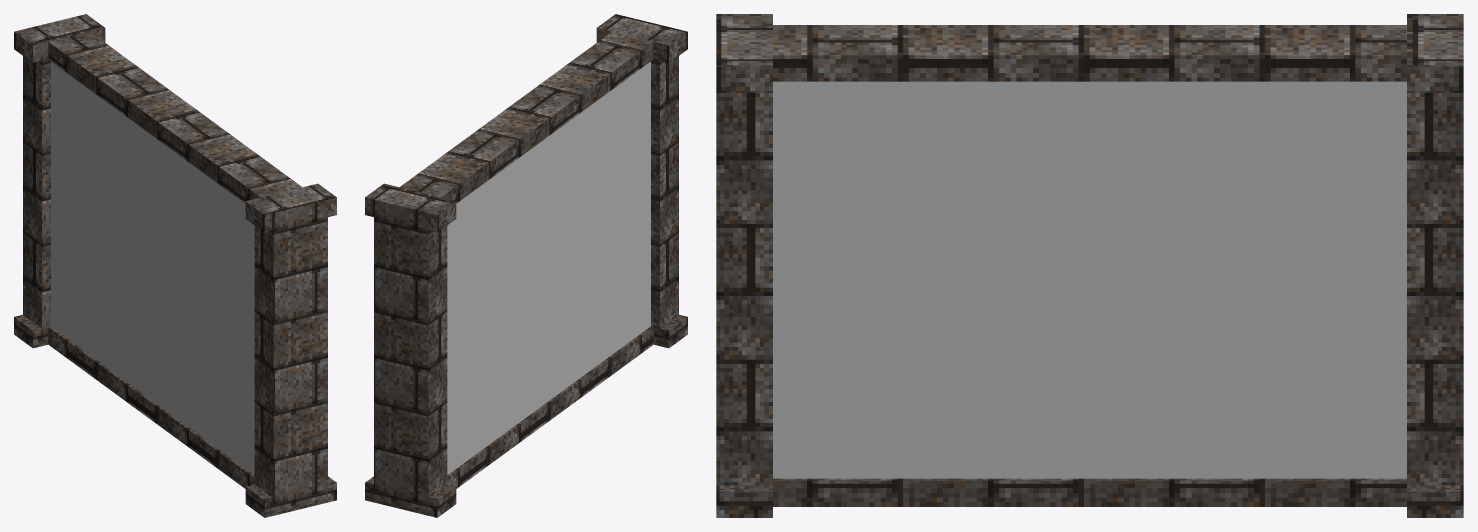
The model's file is pixel_wall_lowpoly.fbx.
3 renders of one model, left to right at view 1: azimuth 30°, elevation 25°; view 2: azimuth 150°, elevation 25°; view 3: azimuth 270°, elevation 25°, orthographic. The views are drawn at different scales.
Parts seen in each view (by area): view 1: psx_wall_wood, psx_wall_bricks; view 2: psx_wall_wood, psx_wall_bricks; view 3: psx_wall_wood, psx_wall_bricks.
Part boxes in pixels (<box>): psx_wall_wood: <box>51,61,254,474</box>; psx_wall_bricks: <box>14,14,336,517</box>; psx_wall_wood: <box>447,61,650,474</box>; psx_wall_bricks: <box>365,14,687,517</box>; psx_wall_wood: <box>773,81,1406,478</box>; psx_wall_bricks: <box>716,14,1463,517</box>.
Bounding box in the file's own units: 50 × 200 × 300.
